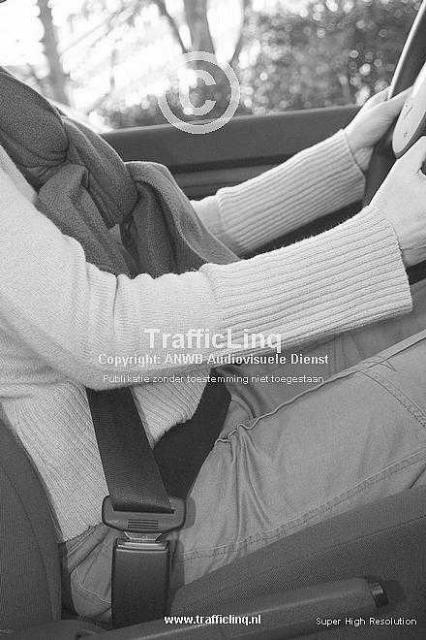Seatbelt: (79, 382, 240, 578)
